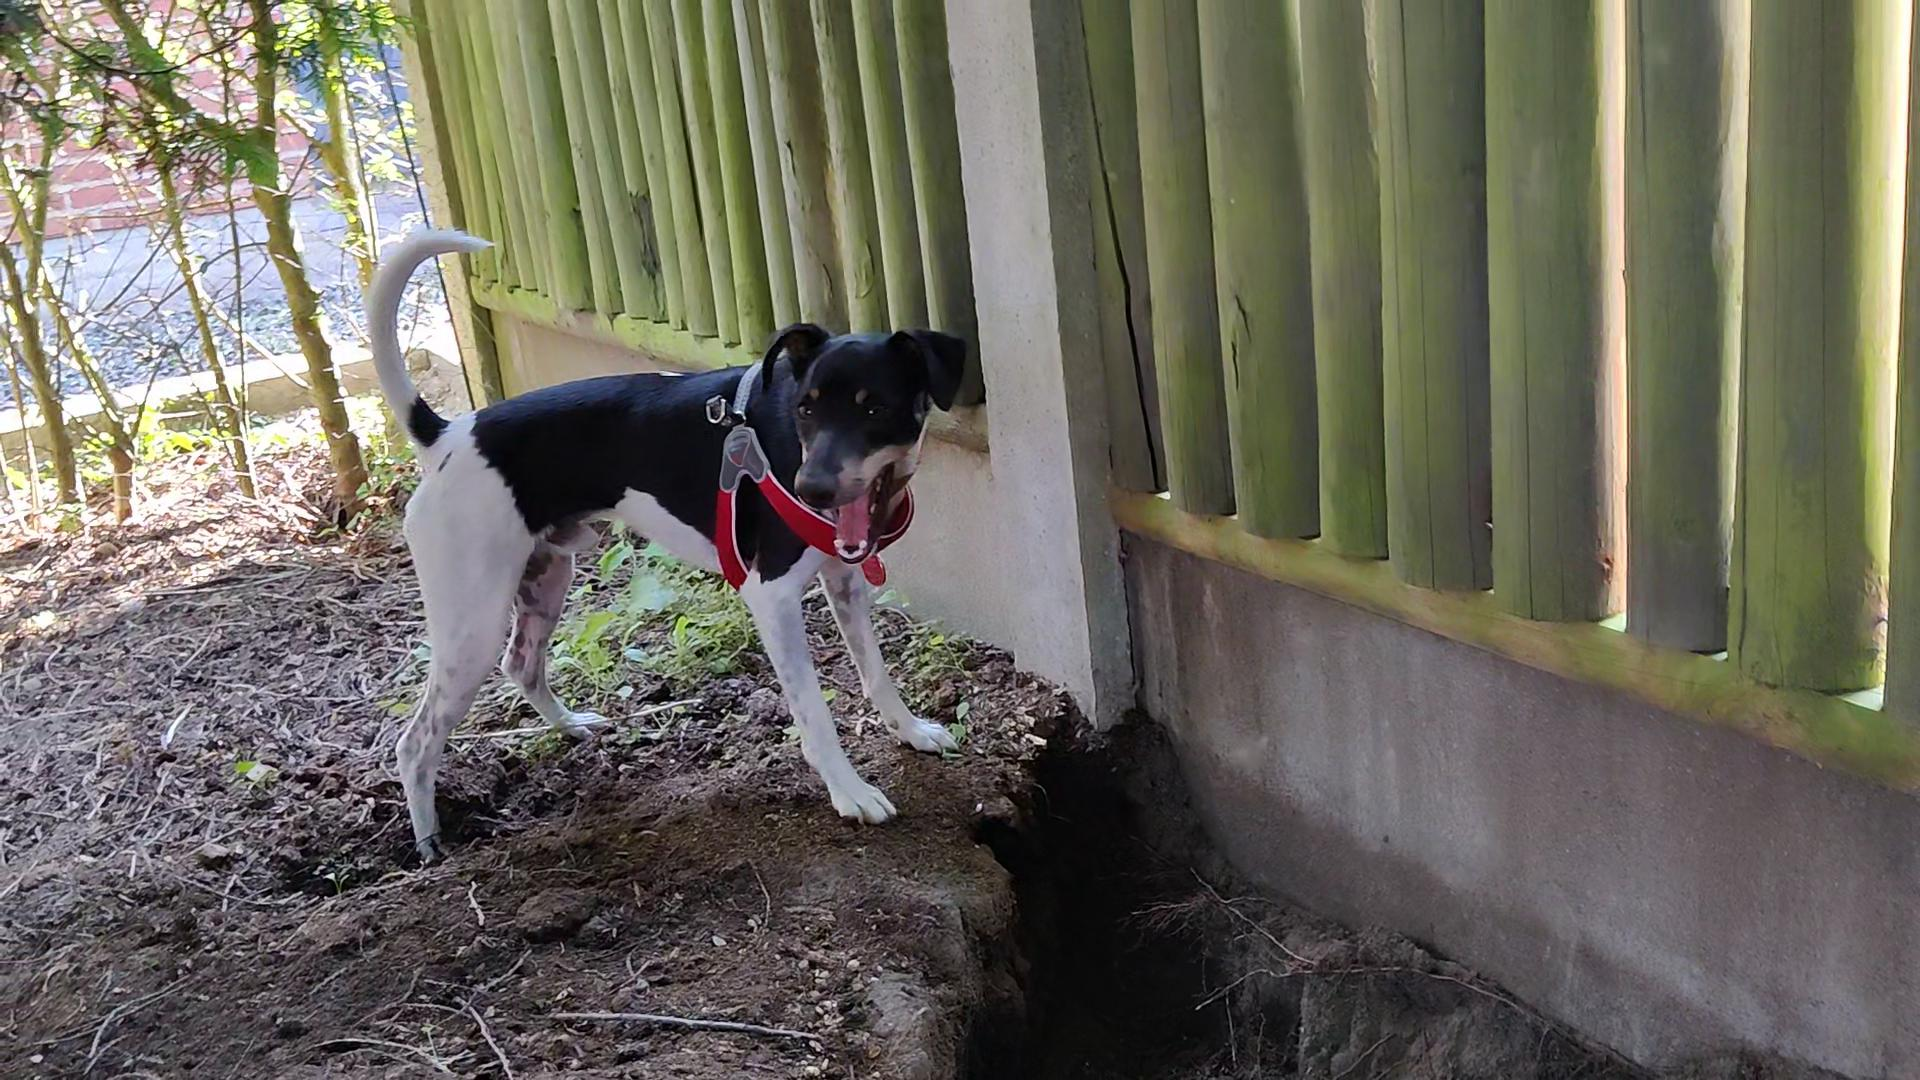Dog: (331, 199, 998, 873)
